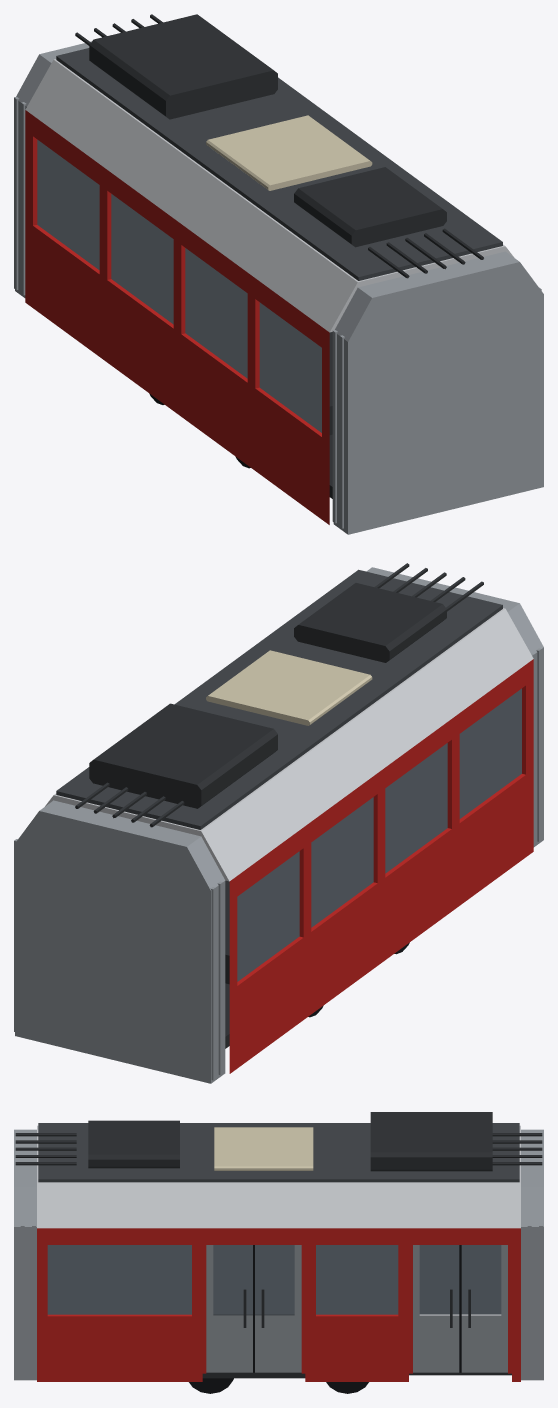
3 views of the same model, one above another, from view 1: azimuth 30°, elevation 25°; view 2: azimuth 150°, elevation 25°; view 3: azimuth 270°, elevation 25° (orthographic). The views are drawn at different scales.
Parts seen in each view (by area): view 1: 14t-c; view 2: 14t-c; view 3: 14t-c.
Part boxes in pixels (bbox=[...]): 14t-c: bbox=[14, 14, 543, 534]; 14t-c: bbox=[14, 563, 543, 1083]; 14t-c: bbox=[14, 1112, 543, 1393].
Size of the model in its own units: 2.46 by 3.34 by 6.95.
